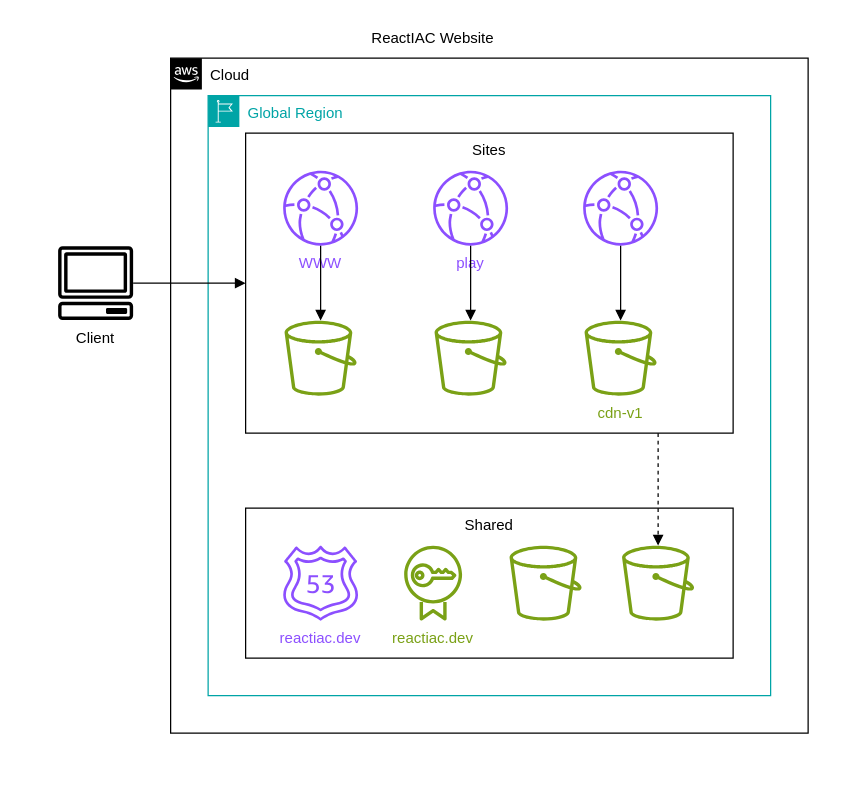
The diagram is 866 pixels wide and 791 high, and some of its shapes have lost their labels. The shapes that lost their labels are listed below. From the top down, each one's centre as x and y in pixels, then its label:
the point at 620,207: cdn
the point at 320,357: www-v1
the point at 470,357: play-v1
the point at 545,582: tf-state
the point at 657,582: logs
